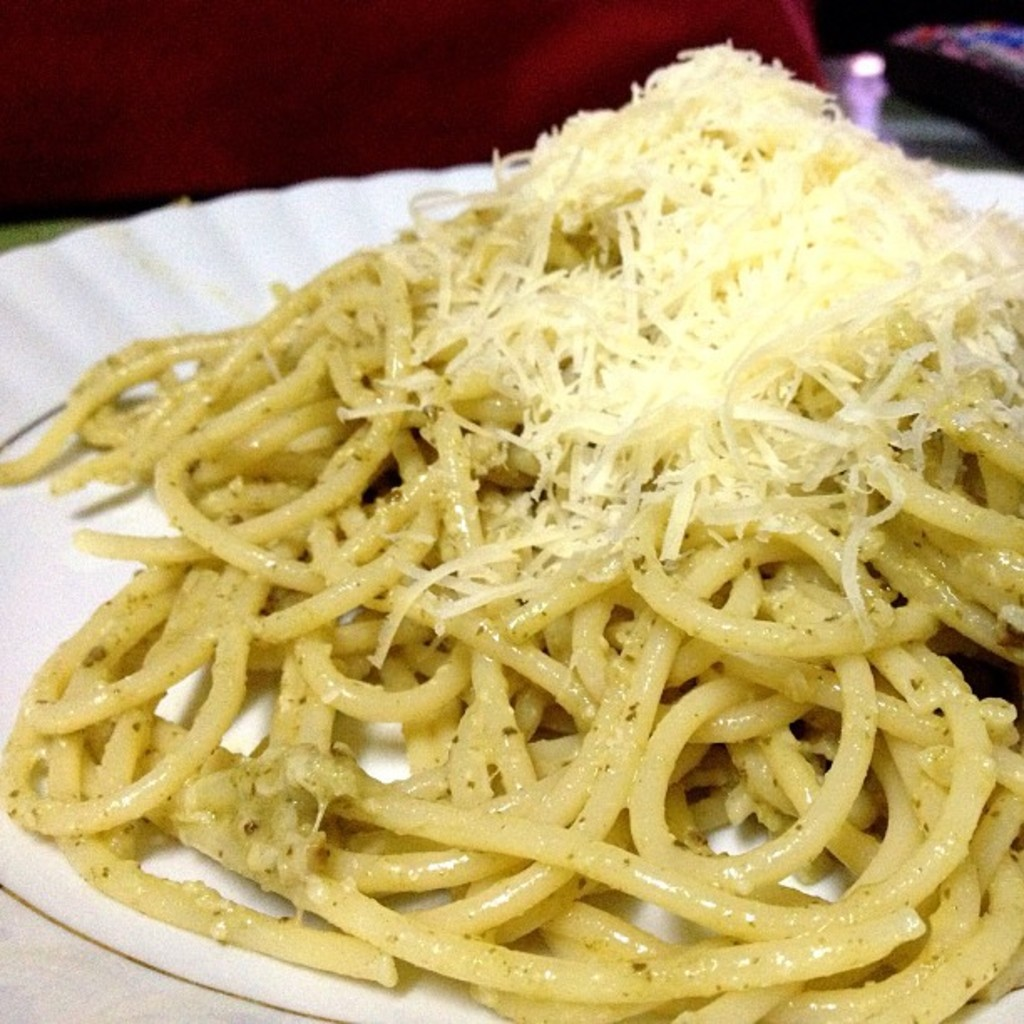pasta: (0, 52, 1024, 1012)
